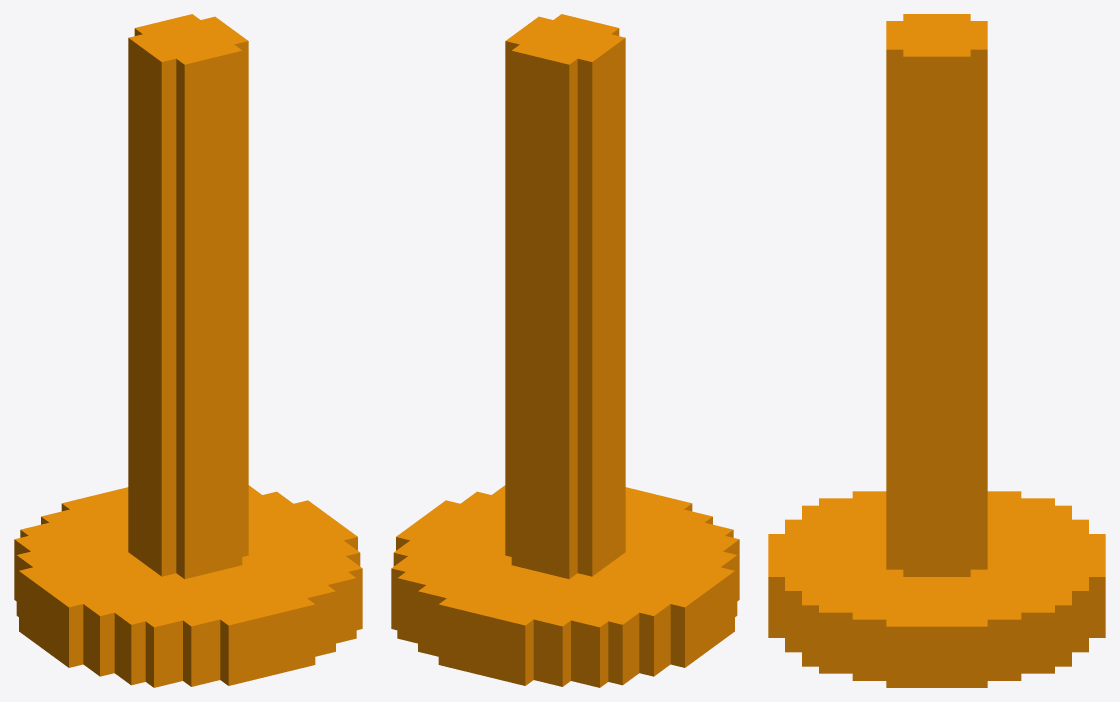
File: Slammer_Bot.obj
3 renders of one model, left to right at view 1: azimuth 30°, elevation 25°; view 2: azimuth 150°, elevation 25°; view 3: azimuth 270°, elevation 25°, orthographic.
Size of the model in its own units: 2 by 3.8 by 2.
